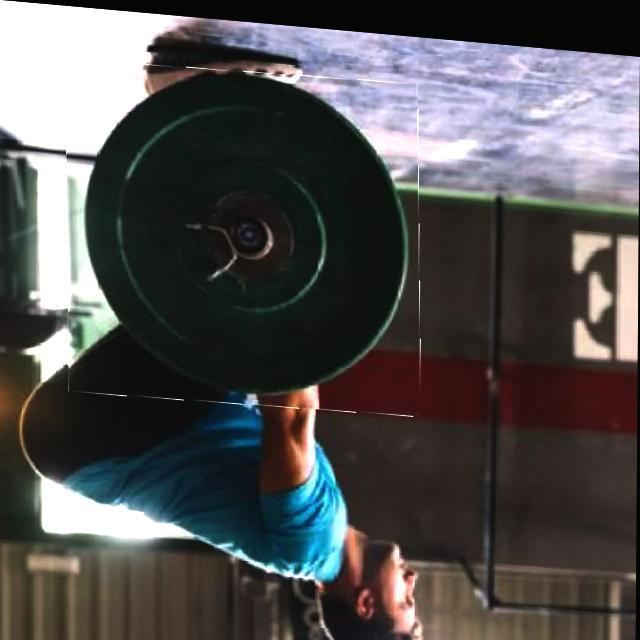barbell: (65, 54, 422, 414)
